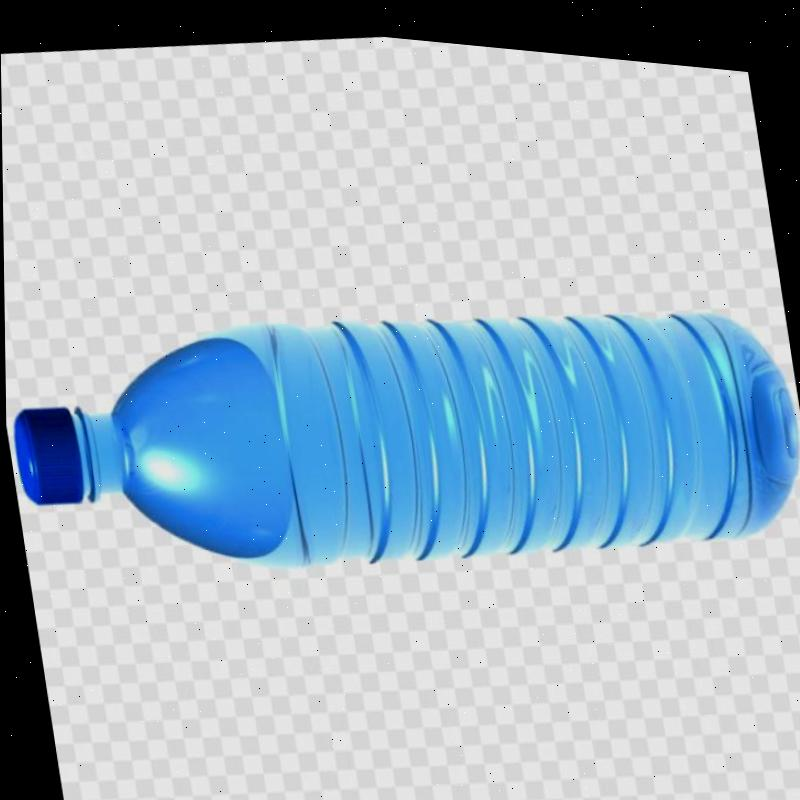botella: (3, 221, 800, 634)
